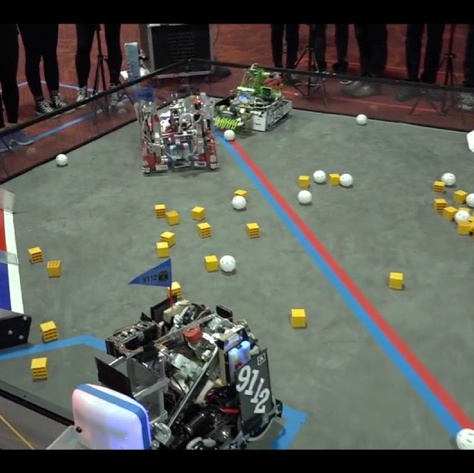robot: (95, 255, 285, 448), (134, 86, 222, 178), (212, 61, 293, 137)
